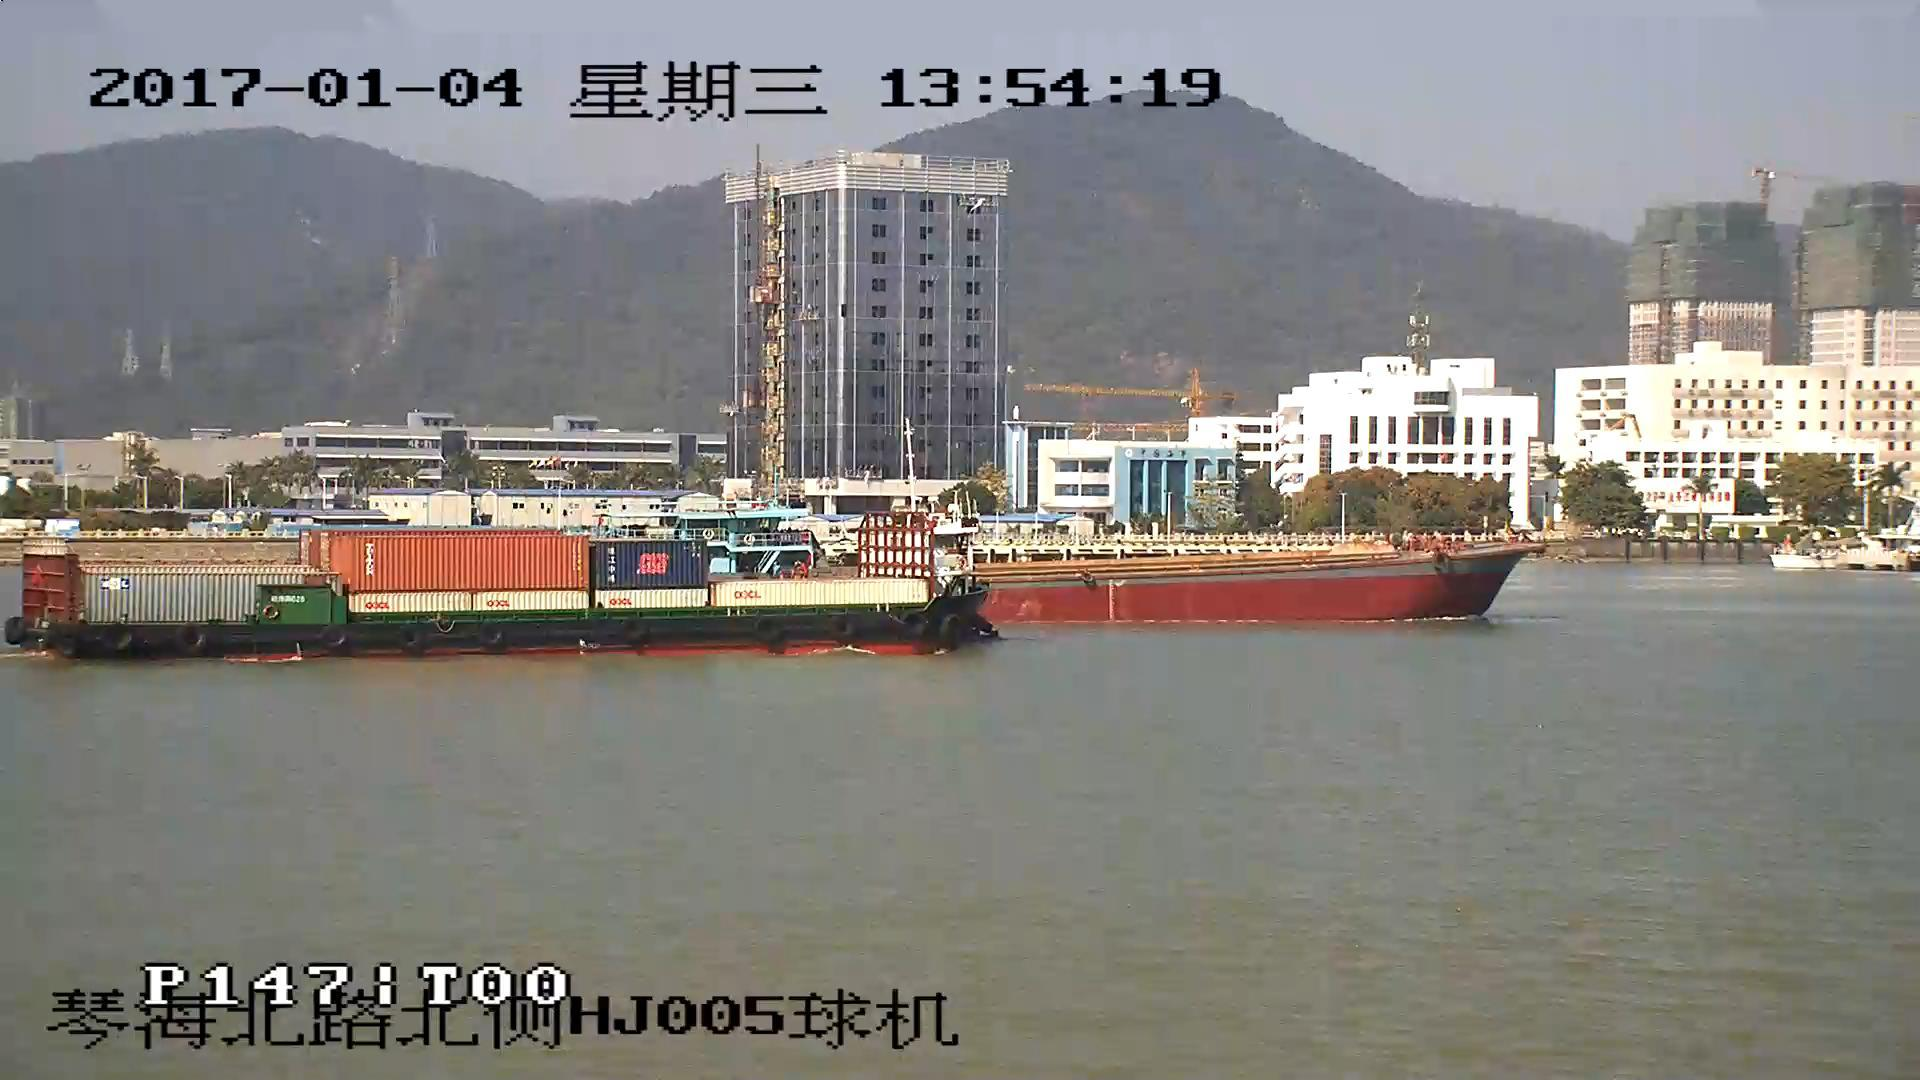Ship: (9, 512, 997, 662), (996, 539, 1545, 620)
